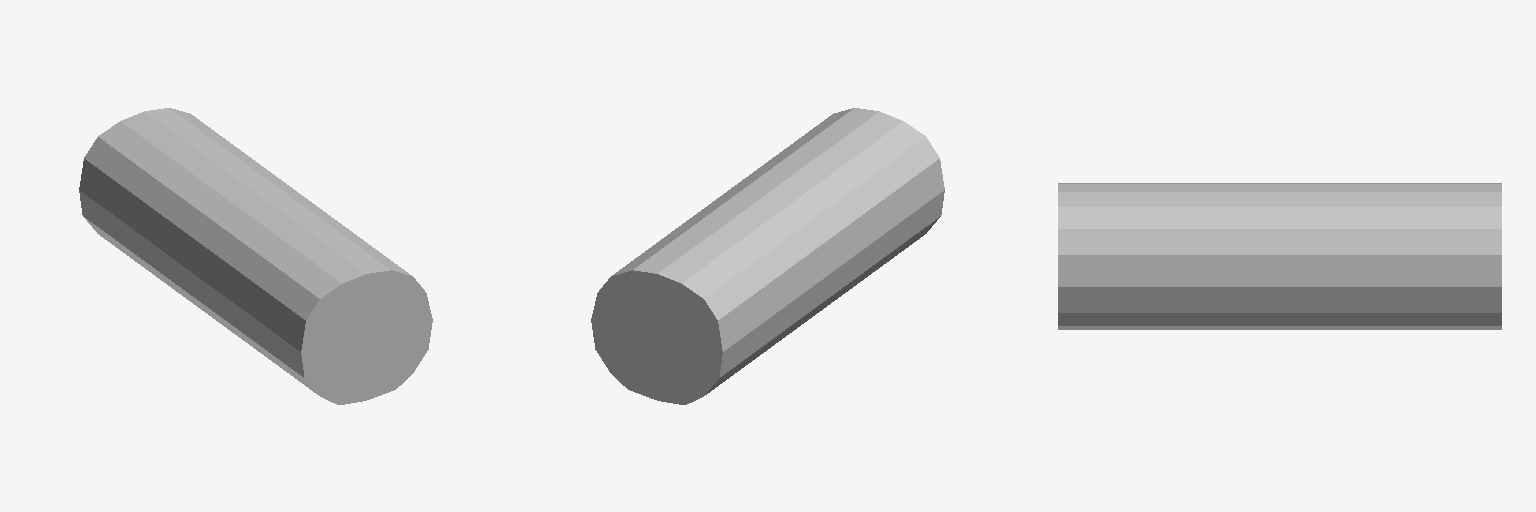
Rendered from woodlog.obj.
The picture shows the model from 3 angles: view 1: azimuth 30°, elevation 25°; view 2: azimuth 150°, elevation 25°; view 3: azimuth 270°, elevation 25°; orthographic projection.
Parts seen in each view (by area): view 1: Cube; view 2: Cube; view 3: Cube.
Part boxes in pixels (x1,y1,x2,y2): Cube: (79, 108, 432, 404); Cube: (591, 108, 944, 404); Cube: (1058, 183, 1501, 329).
Bounding box in the file's own units: 2.83 × 2.61 × 8.27.